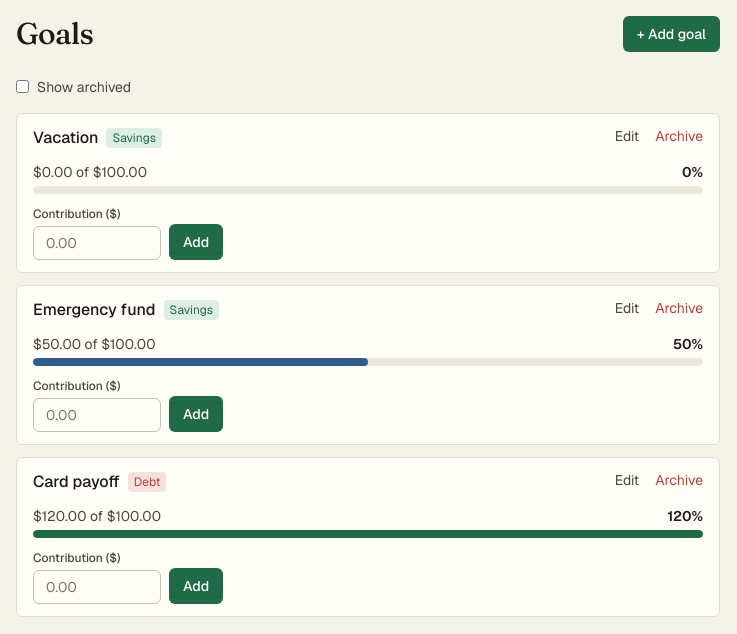
Scenario: GoalsPage › sends a negative contribution as negative cents
Expected: the element "Emergency fund" is shown, left=16, top=284, right=720, bottom=444
In the number field labelled "Contribution ($)" below "$50.00": (97, 414) left=33, top=398, right=161, bottom=432, type "-10"
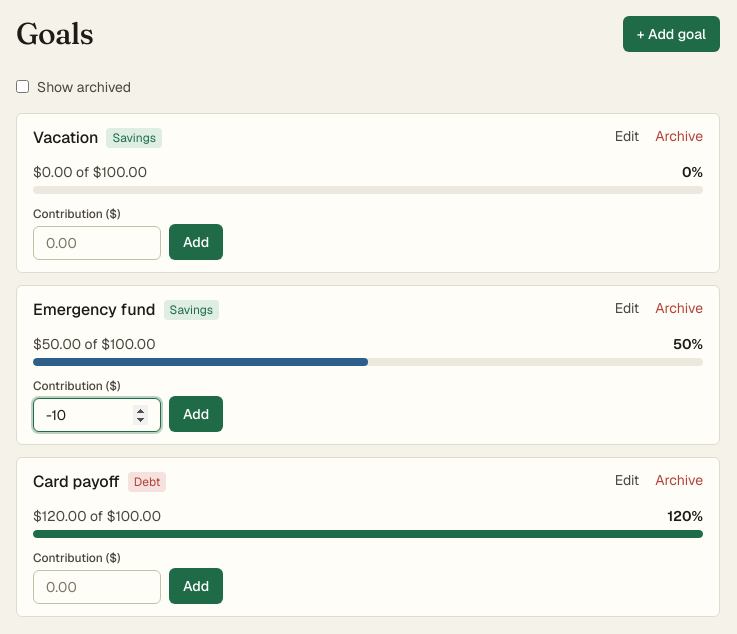
Click the button "Add" below "$50.00": (196, 414) left=169, top=396, right=223, bottom=432
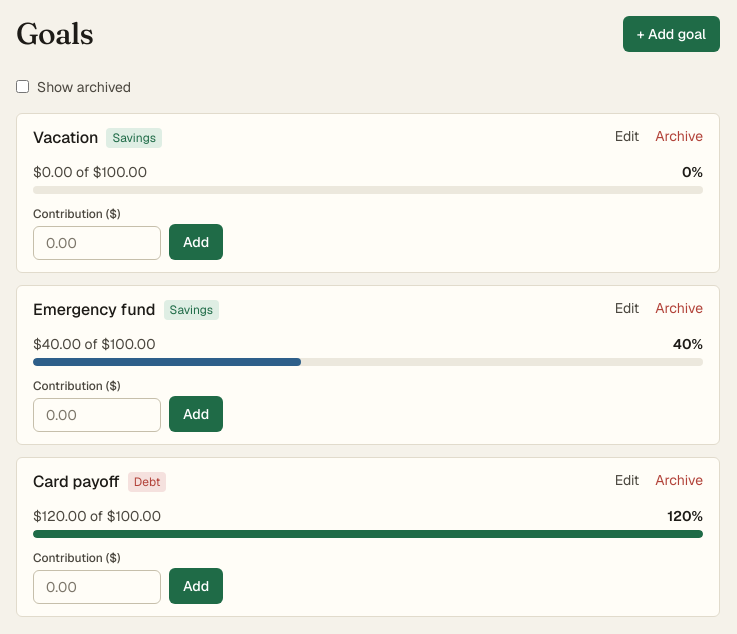
Now the text "40%" is shown, box left=673, top=334, right=703, bottom=354
